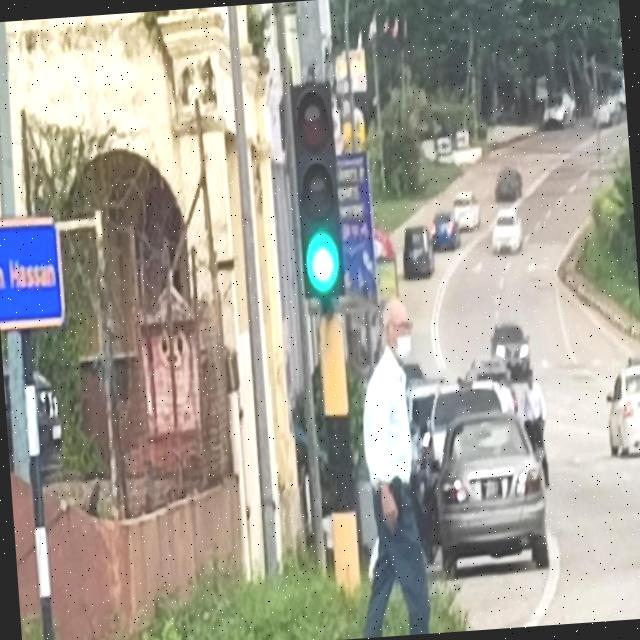green_light: (290, 79, 346, 297)
